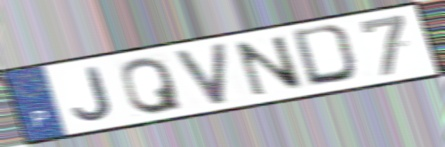7: (358, 12, 408, 78)
D: (289, 22, 364, 89)
J: (71, 64, 117, 123)
N: (231, 34, 308, 98)
Q: (119, 55, 186, 116)
V: (172, 40, 230, 108)
